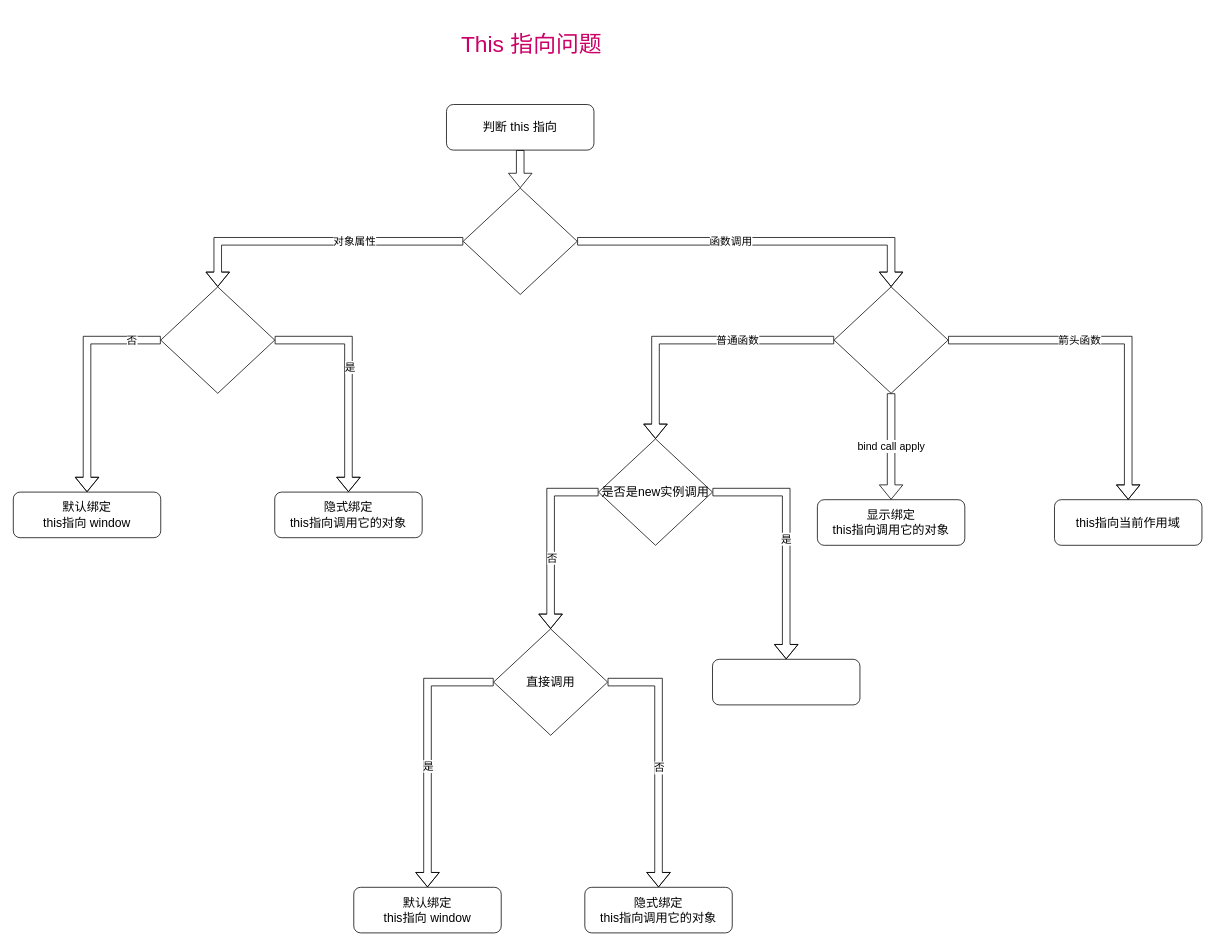
This 1215x946 diagram has some shape labels left out. The shapes that lost their labels are listed below. From the top down, each one's box as (x1, y1, x2, y2) in pixels, then its label:
(462, 187, 577, 294): 调用类型
(160, 286, 275, 393): 对象调用
(833, 286, 948, 393): 函数类型
(712, 659, 860, 705): new绑定 this指向调用它的实例
